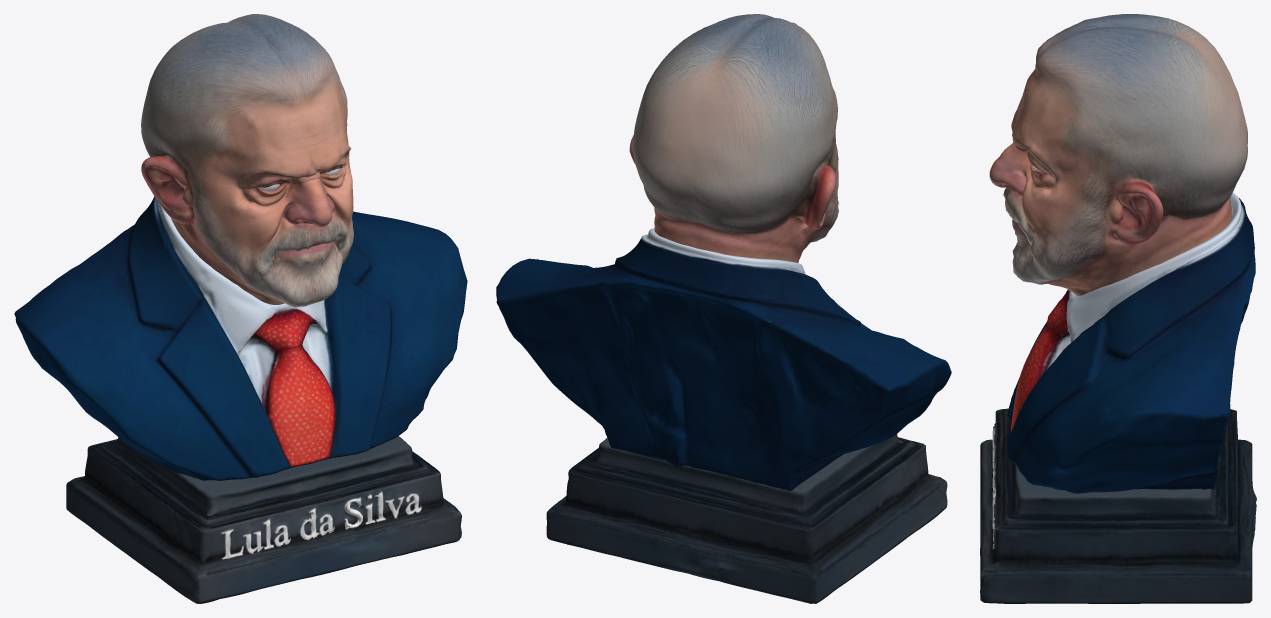
The model's file is lula.glb.
3 renders of one model, left to right at view 1: azimuth 30°, elevation 25°; view 2: azimuth 150°, elevation 25°; view 3: azimuth 270°, elevation 25°, orthographic. The views are drawn at different scales.
Visible parts, largest first — view 1: Body2, PBR_HEAD1, Base2; view 2: Body2, PBR_HEAD1, Base2; view 3: PBR_HEAD1, Body2, Base2.
Boxes of the visible parts, box(x1,y1,x2,y2) form: Body2: box(14, 196, 467, 480); PBR_HEAD1: box(141, 14, 353, 307); Base2: box(66, 436, 461, 603); Body2: box(496, 228, 951, 490); PBR_HEAD1: box(629, 14, 838, 262); Base2: box(546, 434, 947, 603); PBR_HEAD1: box(989, 14, 1247, 295); Body2: box(1007, 193, 1255, 493); Base2: box(980, 408, 1256, 603).
Size of the model in its own units: 0.4769 by 0.5404 by 0.2657.
Materials: 5 (4 with a texture image).
